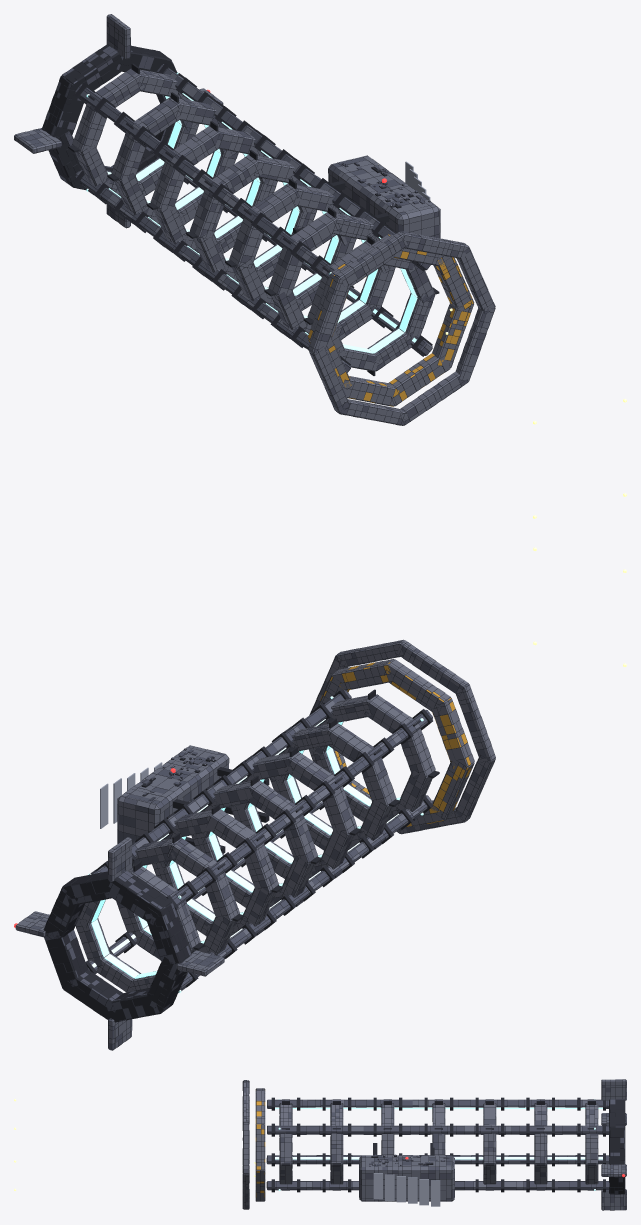
The model's file is gate.glb.
3 renders of one model, top to bottom at view 1: azimuth 30°, elevation 25°; view 2: azimuth 150°, elevation 25°; view 3: azimuth 270°, elevation 25°, orthographic. The views are drawn at different scales.
Visible parts, largest first — view 1: frame_mesh; view 2: frame_mesh; view 3: frame_mesh.
Part boxes in pixels (x1,y1,x2,y2): frame_mesh: (14, 14, 495, 425); frame_mesh: (15, 639, 495, 1050); frame_mesh: (242, 1079, 626, 1210).
Bounding box in the file's own units: 58.93 × 45.4 × 192.
